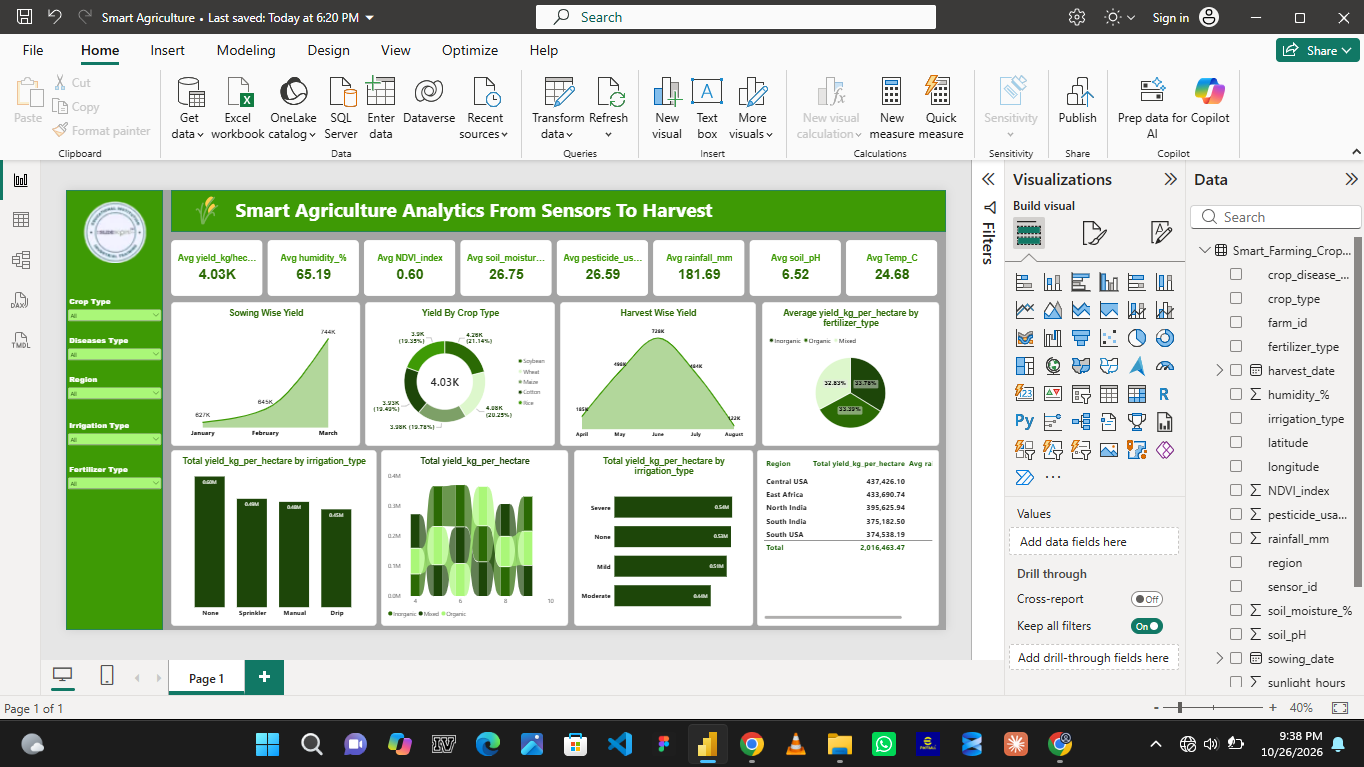

This screenshot's page, from the dashboard's own definition file:
{"tool":"powerbi","page":{"name":"Visualization","canvas":[2200,1100],"ordinal":0},"visuals":[{"type":"shape","box":[262.5,0,1937.5,105],"z":0},{"type":"textbox","box":[315,15,1410,72.5],"z":1000},{"type":"shape","box":[0,0,242.5,1100],"z":2000},{"type":"cardVisual","fields":{"Data":["Avg(Smart_Farming_Crop_Yield_2024.yield_kg_per_hectare)","Avg(Smart_Farming_Crop_Yield_2024.humidity_%)","Avg(Smart_Farming_Crop_Yield_2024.NDVI_index)","Avg(Smart_Farming_Crop_Yield_2024.soil_moisture_%)","Avg(Smart_Farming_Crop_Yield_2024.pesticide_usage_ml)","Avg(Smart_Farming_Crop_Yield_2024.rainfall_mm)","Avg(Smart_Farming_Crop_Yield_2024.soil_pH)","Avg(Smart_Farming_Crop_Yield_2024.temperature_C)"]},"box":[262.5,125,1920,140],"z":3000},{"type":"lineChart","title":"Sowing Wise Yield","fields":{"Category":["Smart_Farming_Crop_Yield_2024.sowing_date.Variation.Date Hierarchy.Month"],"Y":["Sum(Smart_Farming_Crop_Yield_2024.yield_kg_per_hectare)"]},"box":[262.5,280,472.5,360],"z":4000},{"type":"lineChart","title":"Harvest Wise Yield","fields":{"Category":["Smart_Farming_Crop_Yield_2024.harvest_date.Variation.Date Hierarchy.Month"],"Y":["Sum(Smart_Farming_Crop_Yield_2024.yield_kg_per_hectare)"]},"box":[1235,280,490,360],"z":5000},{"type":"donutChart","title":"Yield By Crop Type","fields":{"Category":["Smart_Farming_Crop_Yield_2024.crop_type"],"Y":["Avg(Smart_Farming_Crop_Yield_2024.yield_kg_per_hectare)"]},"box":[747.5,280,475,360],"z":6000},{"type":"pieChart","title":"Average yield_kg_per_hectare by fertilizer_type","fields":{"Category":["Smart_Farming_Crop_Yield_2024.fertilizer_type"],"Y":["Avg(Smart_Farming_Crop_Yield_2024.yield_kg_per_hectare)"]},"box":[1740,280,442.5,360],"z":7000},{"type":"columnChart","title":"Total yield_kg_per_hectare by irrigation_type","fields":{"Category":["Smart_Farming_Crop_Yield_2024.irrigation_type"],"Y":["Sum(Smart_Farming_Crop_Yield_2024.yield_kg_per_hectare)"]},"box":[262.5,650,485,440],"z":8000},{"type":"clusteredBarChart","title":"Total yield_kg_per_hectare by irrigation_type","fields":{"Category":["Smart_Farming_Crop_Yield_2024.crop_disease_status"],"Y":["Sum(Smart_Farming_Crop_Yield_2024.yield_kg_per_hectare)"]},"box":[1725,650,457.5,440],"z":9000},{"type":"filledMap","fields":{"Category":["Smart_Farming_Crop_Yield_2024.region"],"Series":["Smart_Farming_Crop_Yield_2024.region"]},"box":[762.5,650,482.5,440],"z":10000},{"type":"ribbonChart","title":"Total  yield_kg_per_hectare","fields":{"Category":["Smart_Farming_Crop_Yield_2024.sunlight_hours (bins)"],"Series":["Smart_Farming_Crop_Yield_2024.fertilizer_type"],"Y":["Sum(Smart_Farming_Crop_Yield_2024.yield_kg_per_hectare)"]},"box":[1262.5,650,447.5,440],"z":11000},{"type":"image","box":[17.5,27.5,210,155],"z":12000},{"type":"image","box":[315,15,82.5,72.5],"z":13000},{"type":"slicer","fields":{"Values":["Smart_Farming_Crop_Yield_2024.crop_type"]},"box":[0,265,242.5,75],"z":14000},{"type":"slicer","fields":{"Values":["Smart_Farming_Crop_Yield_2024.crop_disease_status"]},"box":[0,362.5,242.5,75],"z":15000},{"type":"slicer","fields":{"Values":["Smart_Farming_Crop_Yield_2024.region"]},"box":[0,460,242.5,75],"z":16000},{"type":"slicer","fields":{"Values":["Smart_Farming_Crop_Yield_2024.irrigation_type"]},"box":[0,575,242.5,75],"z":17000},{"type":"slicer","fields":{"Values":["Smart_Farming_Crop_Yield_2024.fertilizer_type"]},"box":[0,685,242.5,75],"z":18000}]}

Visuals, with their boxes on the page's 2200x1100 design canvas (x1, y1, x2, y2). These are canvas units, not pixel positions in the 1364x767 screenshot, which may show the page scaled, cropped or inside an application window:
shape: BBox(262, 0, 2200, 105)
textbox: BBox(315, 15, 1725, 88)
shape: BBox(0, 0, 242, 1100)
cardVisual - Avg(Smart_Farming_Crop_Yield_2024.yield_kg_per_hectare) x Avg(Smart_Farming_Crop_Yield_2024.humidity_%): BBox(262, 125, 2182, 265)
"Sowing Wise Yield" lineChart: BBox(262, 280, 735, 640)
"Harvest Wise Yield" lineChart: BBox(1235, 280, 1725, 640)
"Yield By Crop Type" donutChart: BBox(748, 280, 1222, 640)
"Average yield_kg_per_hectare by fertilizer_type" pieChart: BBox(1740, 280, 2182, 640)
"Total yield_kg_per_hectare by irrigation_type" columnChart: BBox(262, 650, 748, 1090)
"Total yield_kg_per_hectare by irrigation_type" clusteredBarChart: BBox(1725, 650, 2182, 1090)
filledMap - Smart_Farming_Crop_Yield_2024.region x Smart_Farming_Crop_Yield_2024.region: BBox(762, 650, 1245, 1090)
"Total  yield_kg_per_hectare" ribbonChart: BBox(1262, 650, 1710, 1090)
image: BBox(18, 28, 228, 182)
image: BBox(315, 15, 398, 88)
slicer - Smart_Farming_Crop_Yield_2024.crop_type: BBox(0, 265, 242, 340)
slicer - Smart_Farming_Crop_Yield_2024.crop_disease_status: BBox(0, 362, 242, 438)
slicer - Smart_Farming_Crop_Yield_2024.region: BBox(0, 460, 242, 535)
slicer - Smart_Farming_Crop_Yield_2024.irrigation_type: BBox(0, 575, 242, 650)
slicer - Smart_Farming_Crop_Yield_2024.fertilizer_type: BBox(0, 685, 242, 760)
